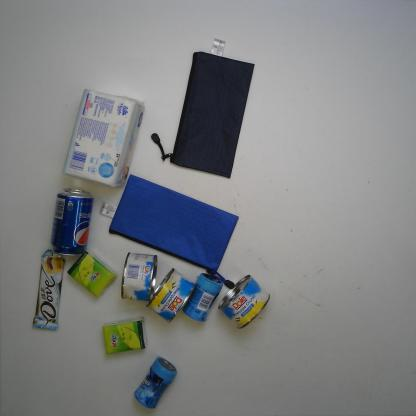Canned Food: (217, 273, 273, 331), (144, 266, 198, 325), (119, 249, 159, 304)
Chocolate: (31, 247, 68, 333)
Drink: (46, 182, 95, 260)
Gum: (132, 355, 180, 410), (181, 270, 225, 326)
Stationery: (96, 170, 242, 293), (148, 33, 258, 182)
Tissue: (56, 87, 147, 190), (64, 246, 118, 300), (99, 314, 149, 357)
